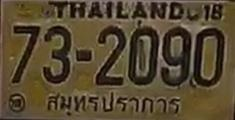0: (192, 27, 224, 86), (128, 27, 158, 84)
2: (96, 26, 125, 84)
3: (42, 25, 70, 83)
7: (12, 25, 40, 82)
9: (160, 26, 190, 86)
SPK: (43, 87, 184, 117)
